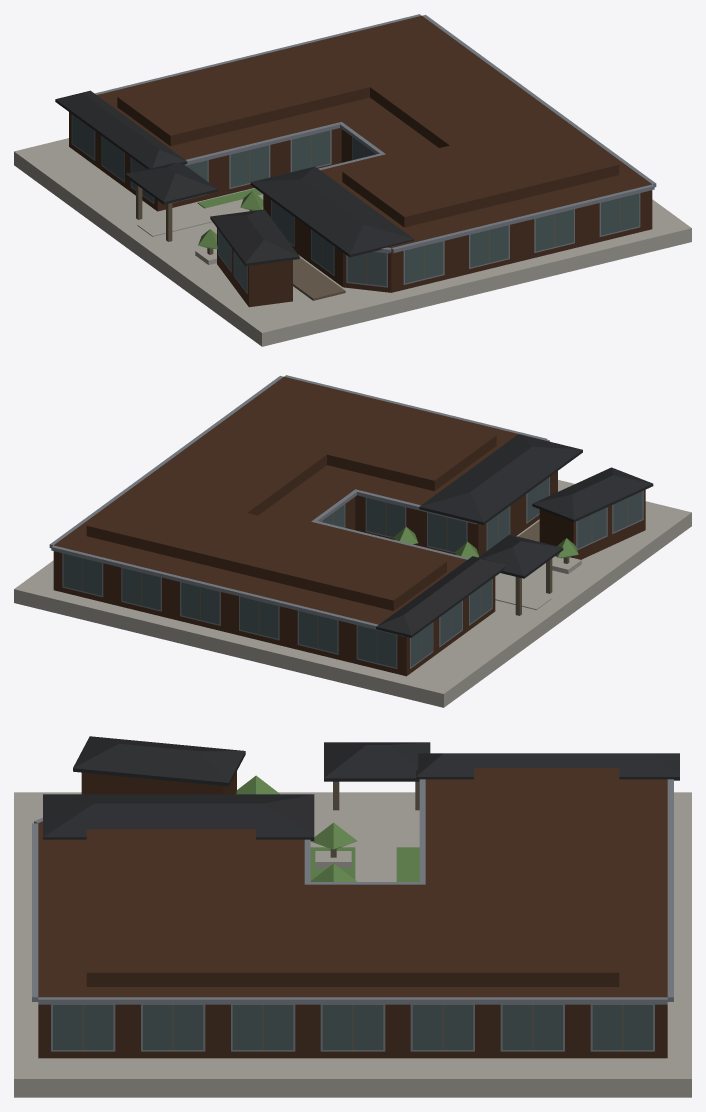
File: base-prebuilt.fbx
The picture shows the model from 3 angles, top to bottom: view 1: azimuth 30°, elevation 25°; view 2: azimuth 150°, elevation 25°; view 3: azimuth 270°, elevation 25°; orthographic projection. The views are drawn at different scales.
Parts seen in each view (by area): view 1: a2016/0/base-prebuilt; view 2: a2016/0/base-prebuilt; view 3: a2016/0/base-prebuilt.
Part boxes in pixels (left/top/right/bottom): a2016/0/base-prebuilt: left=14, top=14, right=691, bottom=346; a2016/0/base-prebuilt: left=14, top=375, right=691, bottom=707; a2016/0/base-prebuilt: left=14, top=736, right=691, bottom=1097.
Bounding box in the file's own units: 28 × 4.3 × 28.
